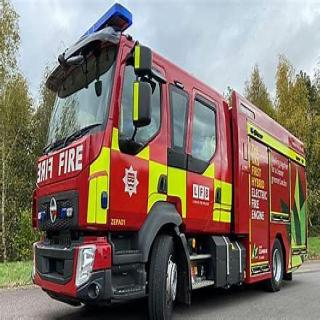Fire_truck: (30, 1, 308, 319)
